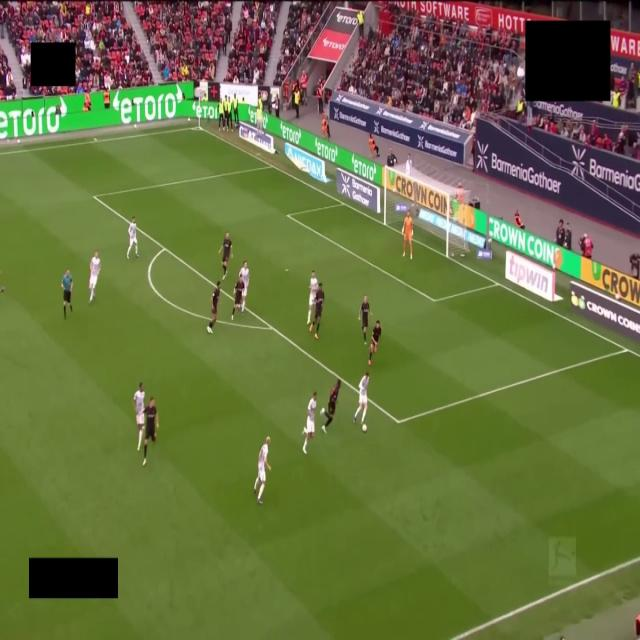ball: (362, 424, 366, 432)
player: (254, 437, 270, 504), (143, 397, 158, 465), (321, 380, 340, 432), (309, 283, 324, 339), (353, 372, 369, 423), (303, 392, 316, 454), (133, 383, 144, 450), (207, 281, 221, 333), (219, 232, 232, 279), (307, 271, 318, 325), (369, 320, 381, 366), (89, 252, 100, 302), (239, 260, 249, 313), (232, 277, 244, 319), (359, 296, 369, 344), (403, 212, 413, 259), (127, 216, 138, 258), (0, 287, 5, 293)
referee: (61, 270, 72, 319)
